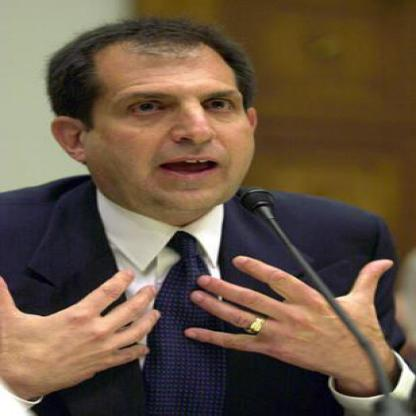face: (82, 25, 262, 219)
